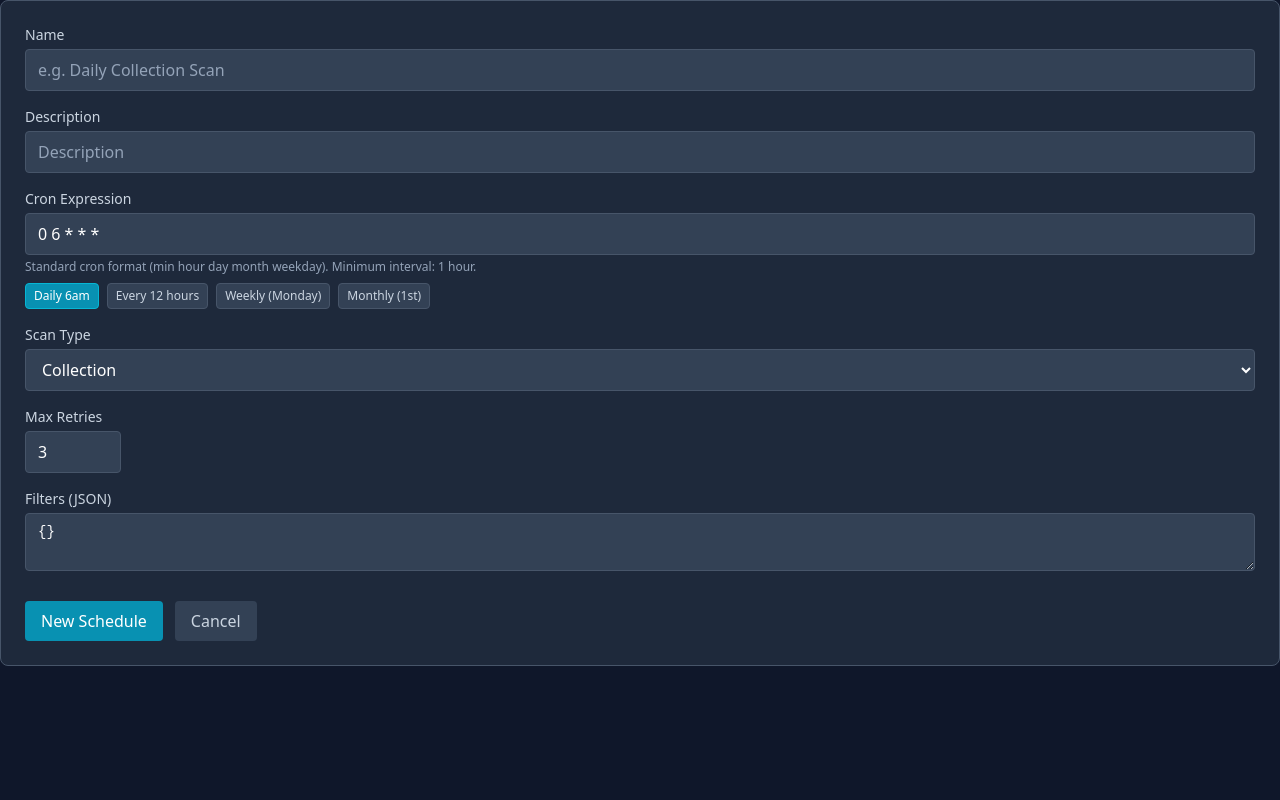
Test: ScheduleForm › shows error when name is empty
Click the button with test id "schedule-submit-btn". click: (94, 621)
box: [25,601,163,641]
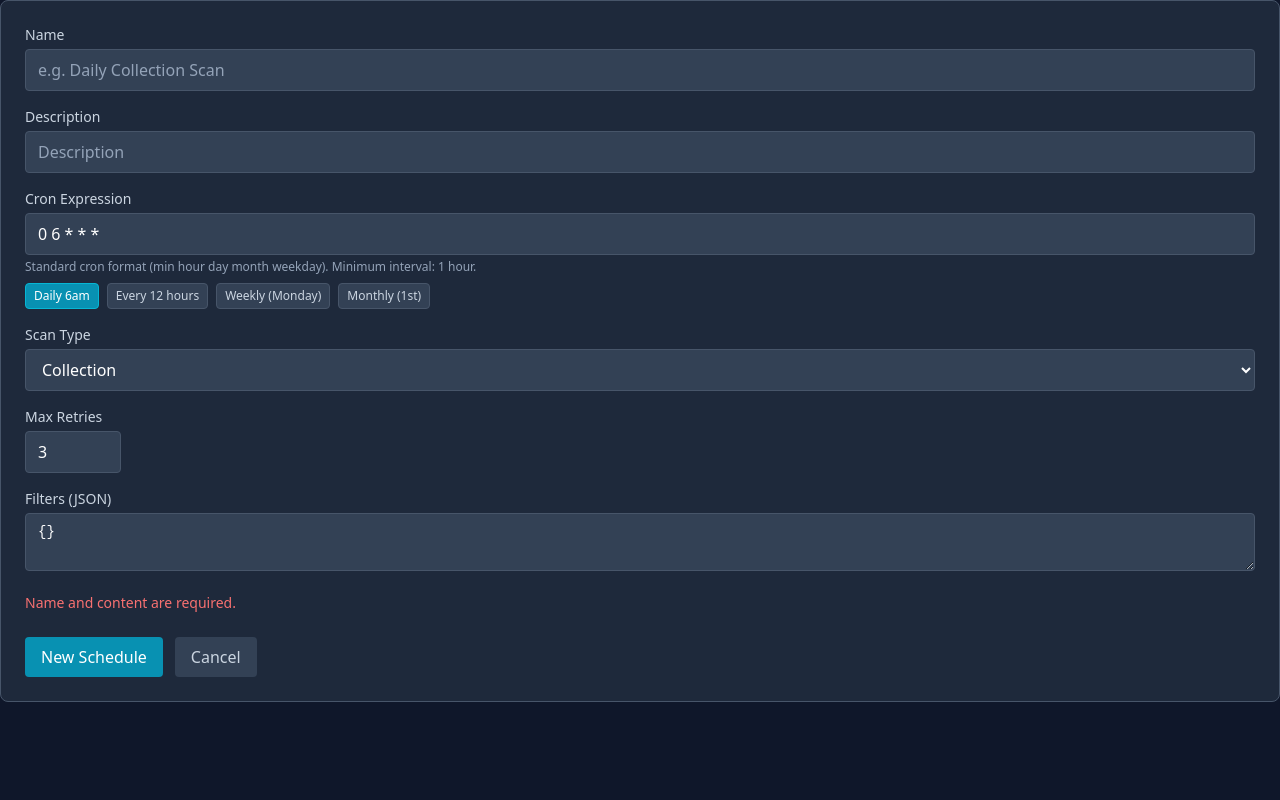
Now the text "Name and content are required." is shown, box [25,593,236,612]
